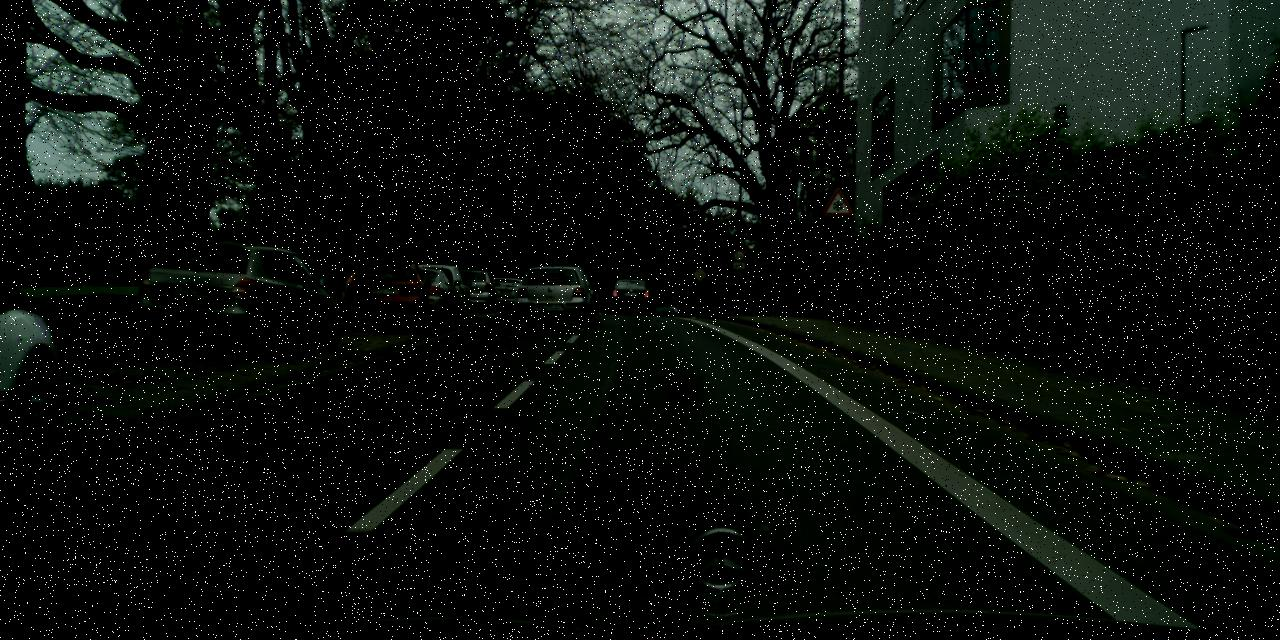ped: (741, 272, 758, 316), (716, 274, 732, 314)
